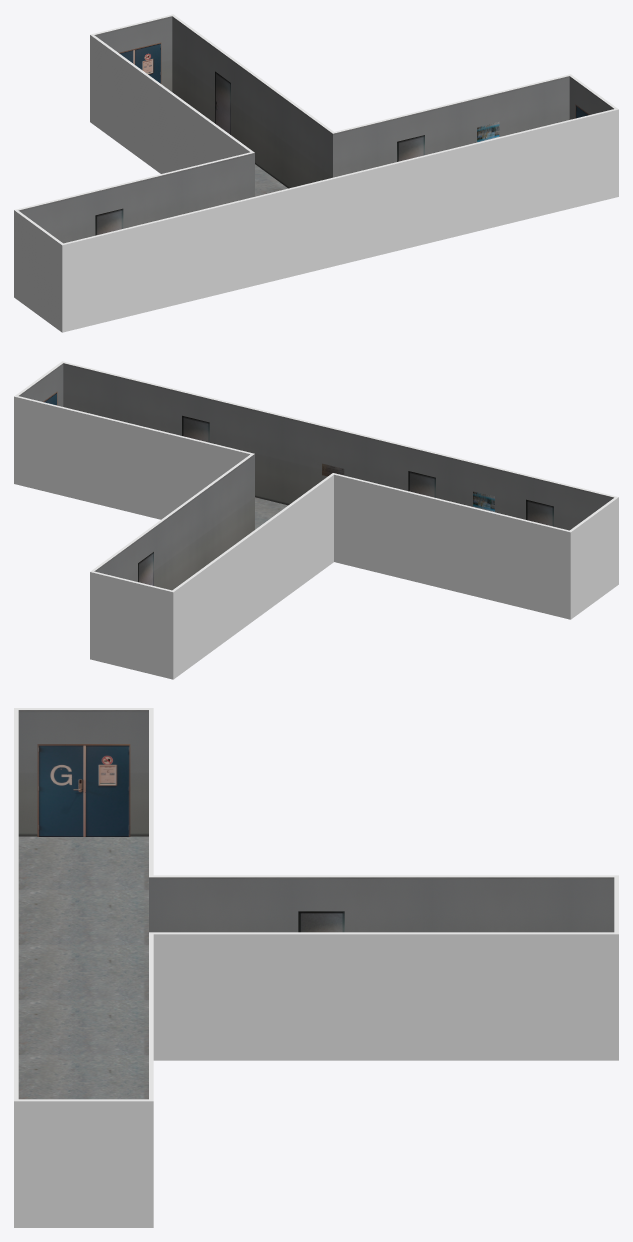
Rendered from hallway.dae.
3 renders of one model, top to bottom at view 1: azimuth 30°, elevation 25°; view 2: azimuth 150°, elevation 25°; view 3: azimuth 270°, elevation 25°, orthographic. The views are drawn at different scales.
Parts seen in each view (by area): view 1: SketchUp (×3), instance_1, instance_9, instance_7, instance_6; view 2: SketchUp (×3), instance_5, instance_3, instance_4; view 3: SketchUp (×3), instance_0, instance_8.
Boxes of the visible parts, x1,y1,x2,y2 form: SketchUp (×3): (14, 14, 618, 332); instance_1: (119, 42, 161, 83); instance_9: (215, 71, 230, 134); instance_7: (95, 208, 123, 235); instance_6: (397, 135, 424, 161); SketchUp (×3): (14, 361, 618, 679); instance_5: (182, 415, 209, 442); instance_3: (526, 499, 553, 526); instance_4: (408, 471, 435, 497); SketchUp (×3): (14, 708, 618, 1227); instance_0: (37, 744, 130, 836); instance_8: (298, 911, 344, 932).
Size of the model in its own units: 787 by 512 by 118.
7 materials, 6 textured.
